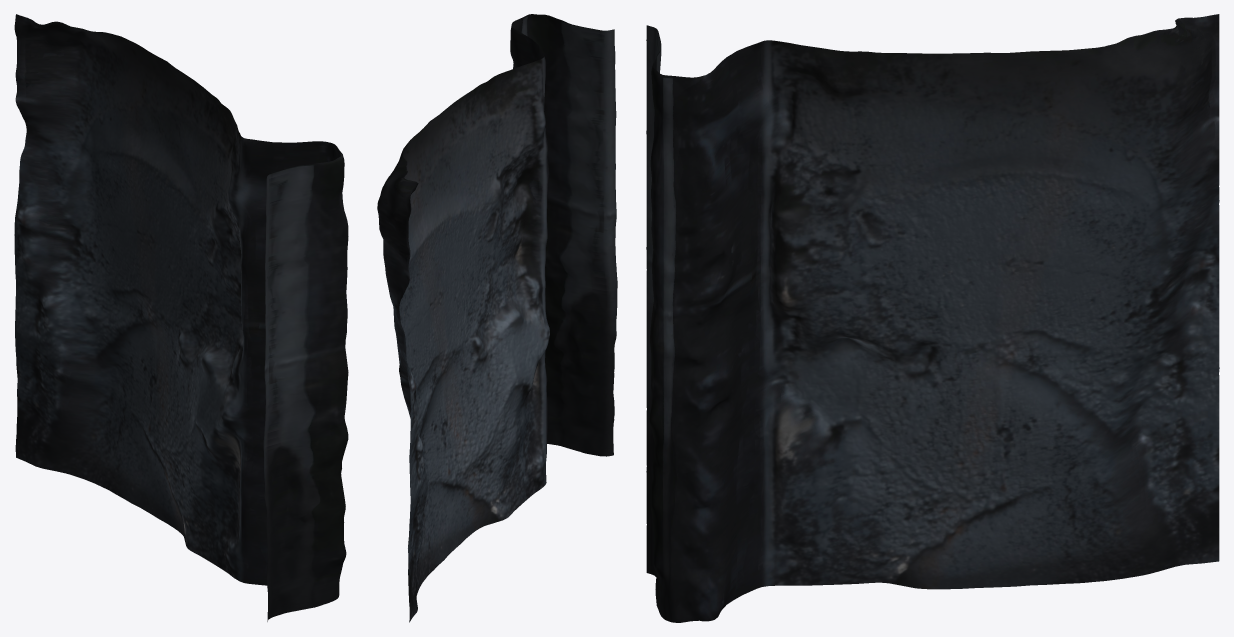
File: Wall_Chunk4.fbx
3 views of the same model, side by side, from view 1: azimuth 30°, elevation 25°; view 2: azimuth 150°, elevation 25°; view 3: azimuth 270°, elevation 25° (orthographic). The views are drawn at different scales.
Parts seen in each view (by area): view 1: Model; view 2: Model; view 3: Model.
Boxes of the visible parts, left/top/right/bottom form: Model: left=14, top=14, right=348, bottom=621; Model: left=377, top=14, right=617, bottom=622; Model: left=646, top=14, right=1219, bottom=622.
Bounding box in the file's own units: 0.401 × 1.57 × 1.49.
